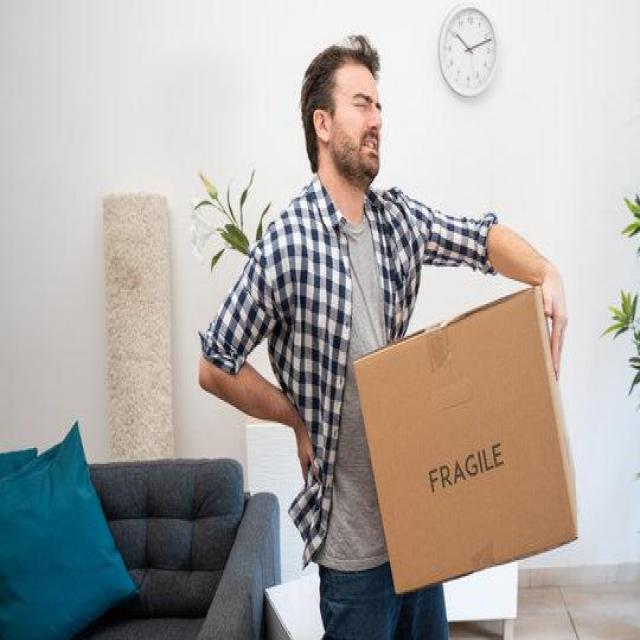box: (355, 285, 586, 604)
